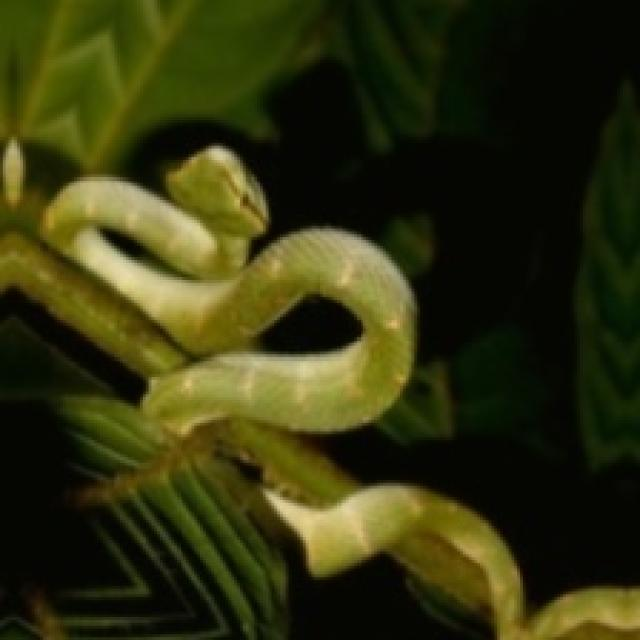north ph temple pitviper: (0, 140, 637, 637), (0, 146, 414, 500)
